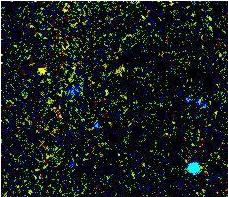star: (26, 54, 56, 84)
